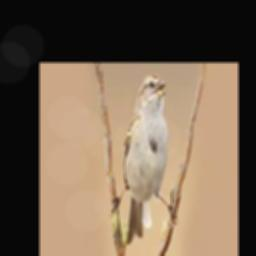Sparrow: (111, 74, 177, 243)
